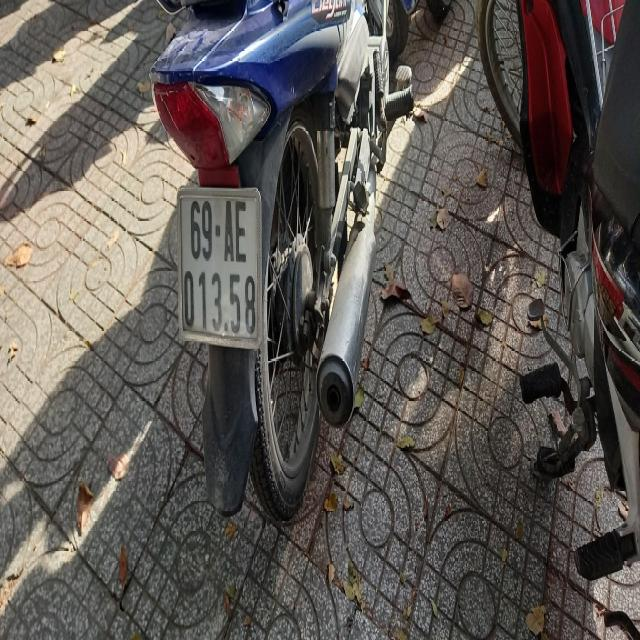0: (183, 268, 196, 326)
1: (198, 270, 208, 332)
3: (212, 268, 223, 330)
5: (230, 272, 241, 335)
6: (189, 199, 201, 258)
8: (246, 274, 256, 338)
9: (202, 198, 214, 259)
A: (223, 199, 235, 262)
E: (235, 198, 248, 266)
